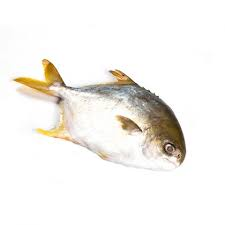Ikan Bawal: (9, 44, 197, 179)
